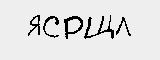І: (61, 12, 69, 38)
А: (85, 10, 111, 35)
Б: (70, 12, 86, 34)
П: (111, 8, 138, 39)
Р: (52, 16, 64, 40)
Щ: (23, 14, 54, 39)
